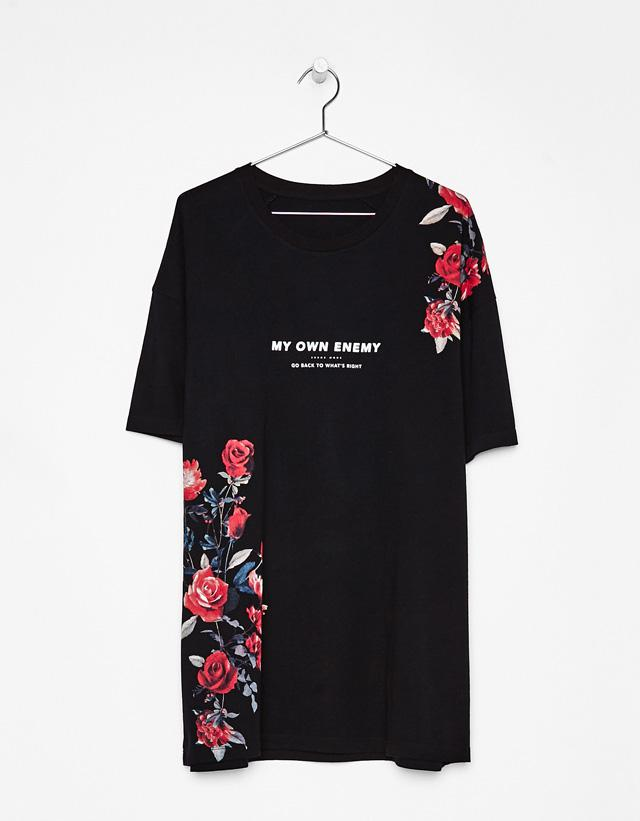teeshirt: (118, 161, 548, 781)
